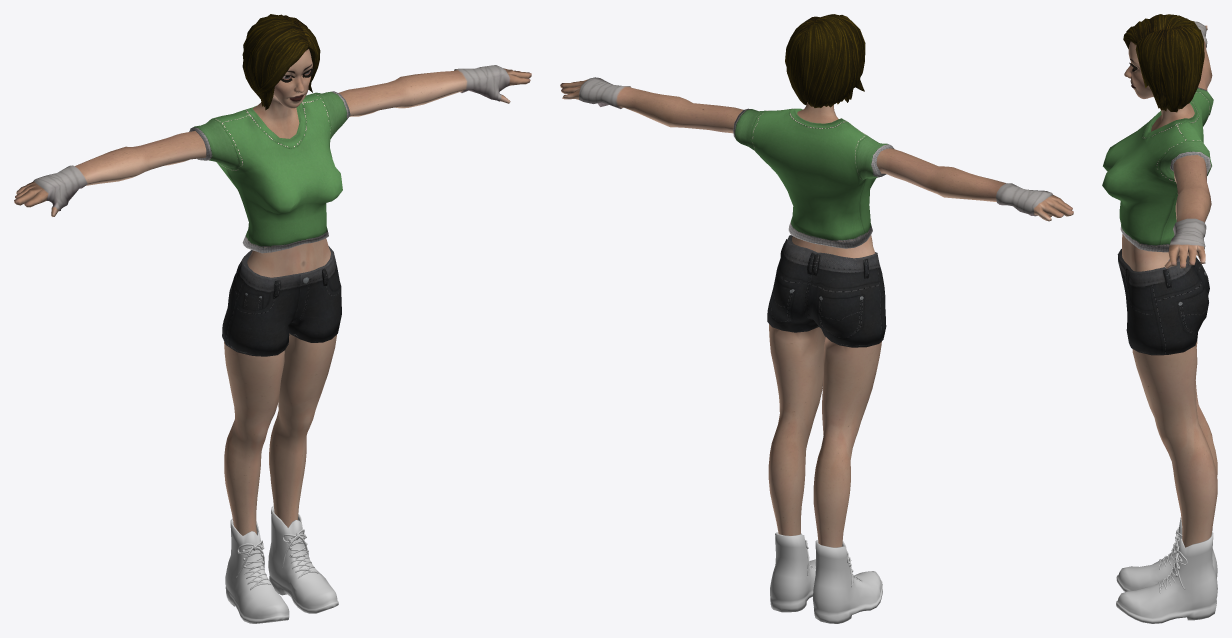
Rendered from Nela.obj.
3 views of the same model, side by side, from view 1: azimuth 30°, elevation 25°; view 2: azimuth 150°, elevation 25°; view 3: azimuth 270°, elevation 25° (orthographic).
Parts seen in each view (by area): view 1: Body, Tops, Bottoms, Shoes, Hair; view 2: Body, Tops, Bottoms, Shoes, Hair; view 3: Body, Tops, Bottoms, Shoes, Hair.
Part boxes in pixels (left/top/right/bottom): Body: left=14, top=49, right=531, bottom=535; Tops: left=189, top=91, right=350, bottom=253; Bottoms: left=222, top=246, right=341, bottom=356; Shoes: left=225, top=506, right=338, bottom=623; Hair: left=242, top=14, right=320, bottom=110; Body: left=560, top=77, right=1073, bottom=547; Tops: left=733, top=108, right=894, bottom=248; Bottoms: left=767, top=235, right=886, bottom=347; Shoes: left=770, top=532, right=882, bottom=623; Hair: left=785, top=14, right=865, bottom=107; Body: left=1122, top=18, right=1217, bottom=547; Tops: left=1102, top=87, right=1213, bottom=252; Bottoms: left=1117, top=249, right=1209, bottom=355; Shoes: left=1116, top=517, right=1217, bottom=623; Hair: left=1123, top=14, right=1204, bottom=112.
Bounding box in the file's own units: 163 × 177 × 31.82.
